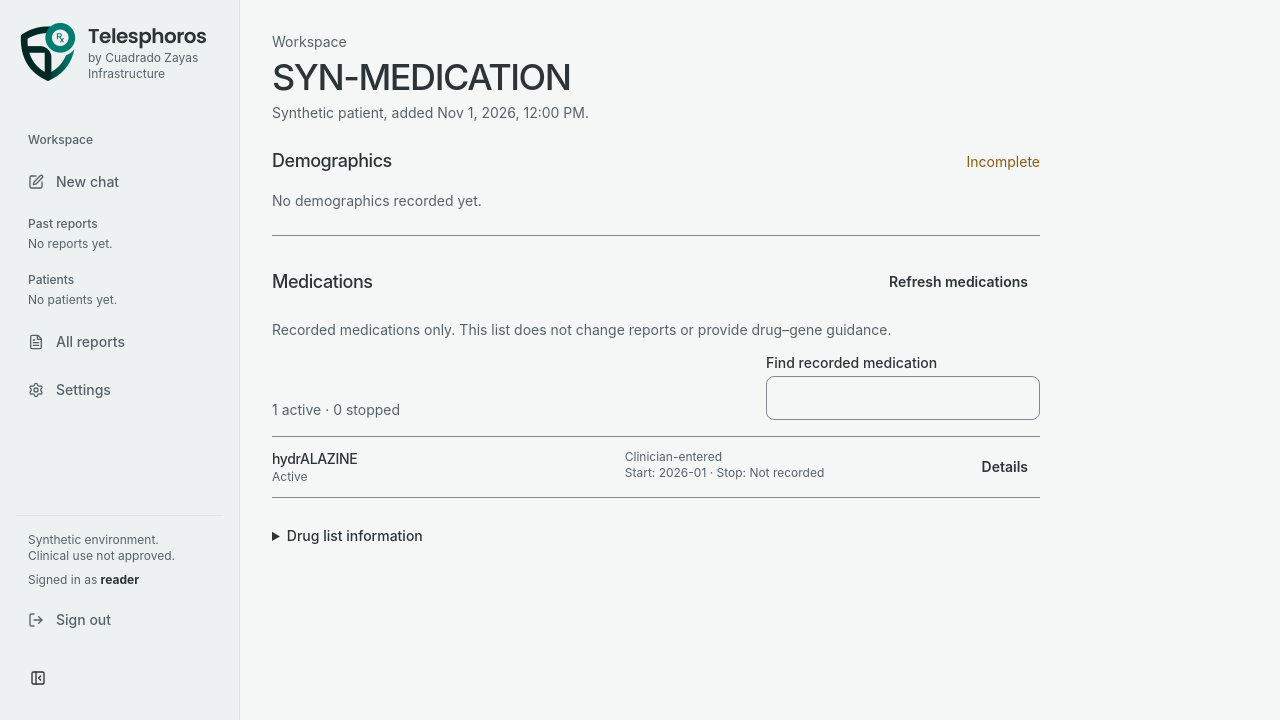
Test: patient medication capture › makes NLM attribution and source currency available in a collapsed disclosure
Expected: the text "Start: 2026-01 · Stop: Not recorded" is shown, [625,465,824,480]
Expected: the text "This product uses publicly available data courtesy of" is not shown
Click the heading "Drug list information" at (355, 536), box [287,527,423,544]
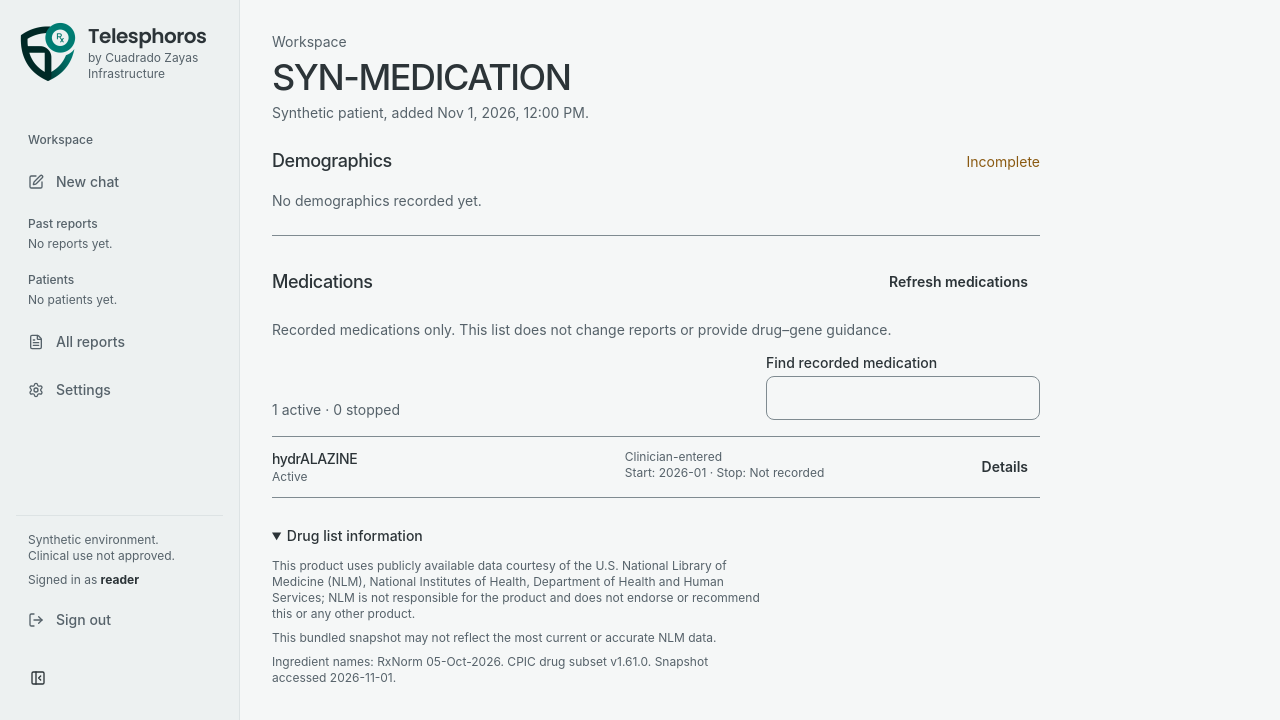
Now the text "This product uses publicly available data courtesy of" shows "U.S. National Library of Medicine", box [272,558,760,621]
Now the text "This product uses publicly available data courtesy of" shows "does not endorse or recommend", box [272,558,760,621]
Now the text "This bundled snapshot may not reflect the most current or accurate NLM data." is shown, box [272,630,764,646]
